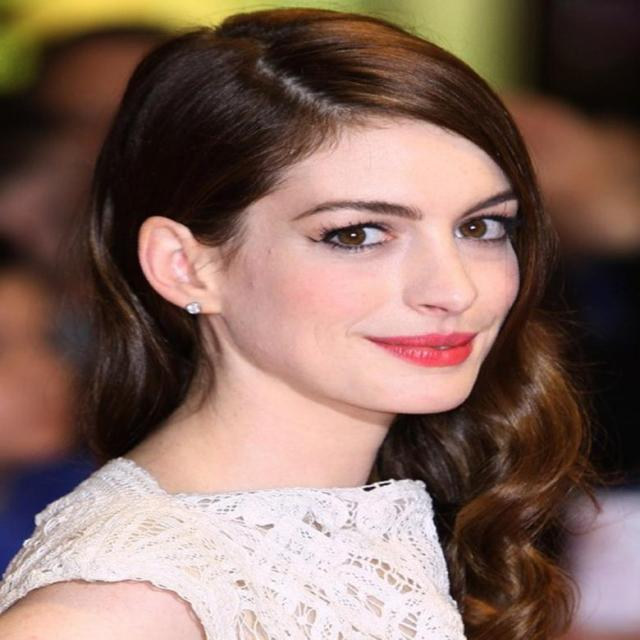no-earmuff: (126, 205, 249, 333)
